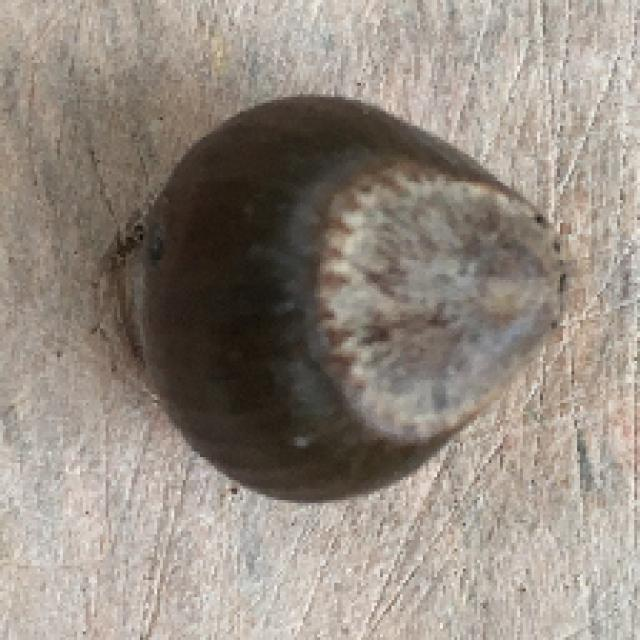damagedHazelnut: (106, 89, 568, 512)
